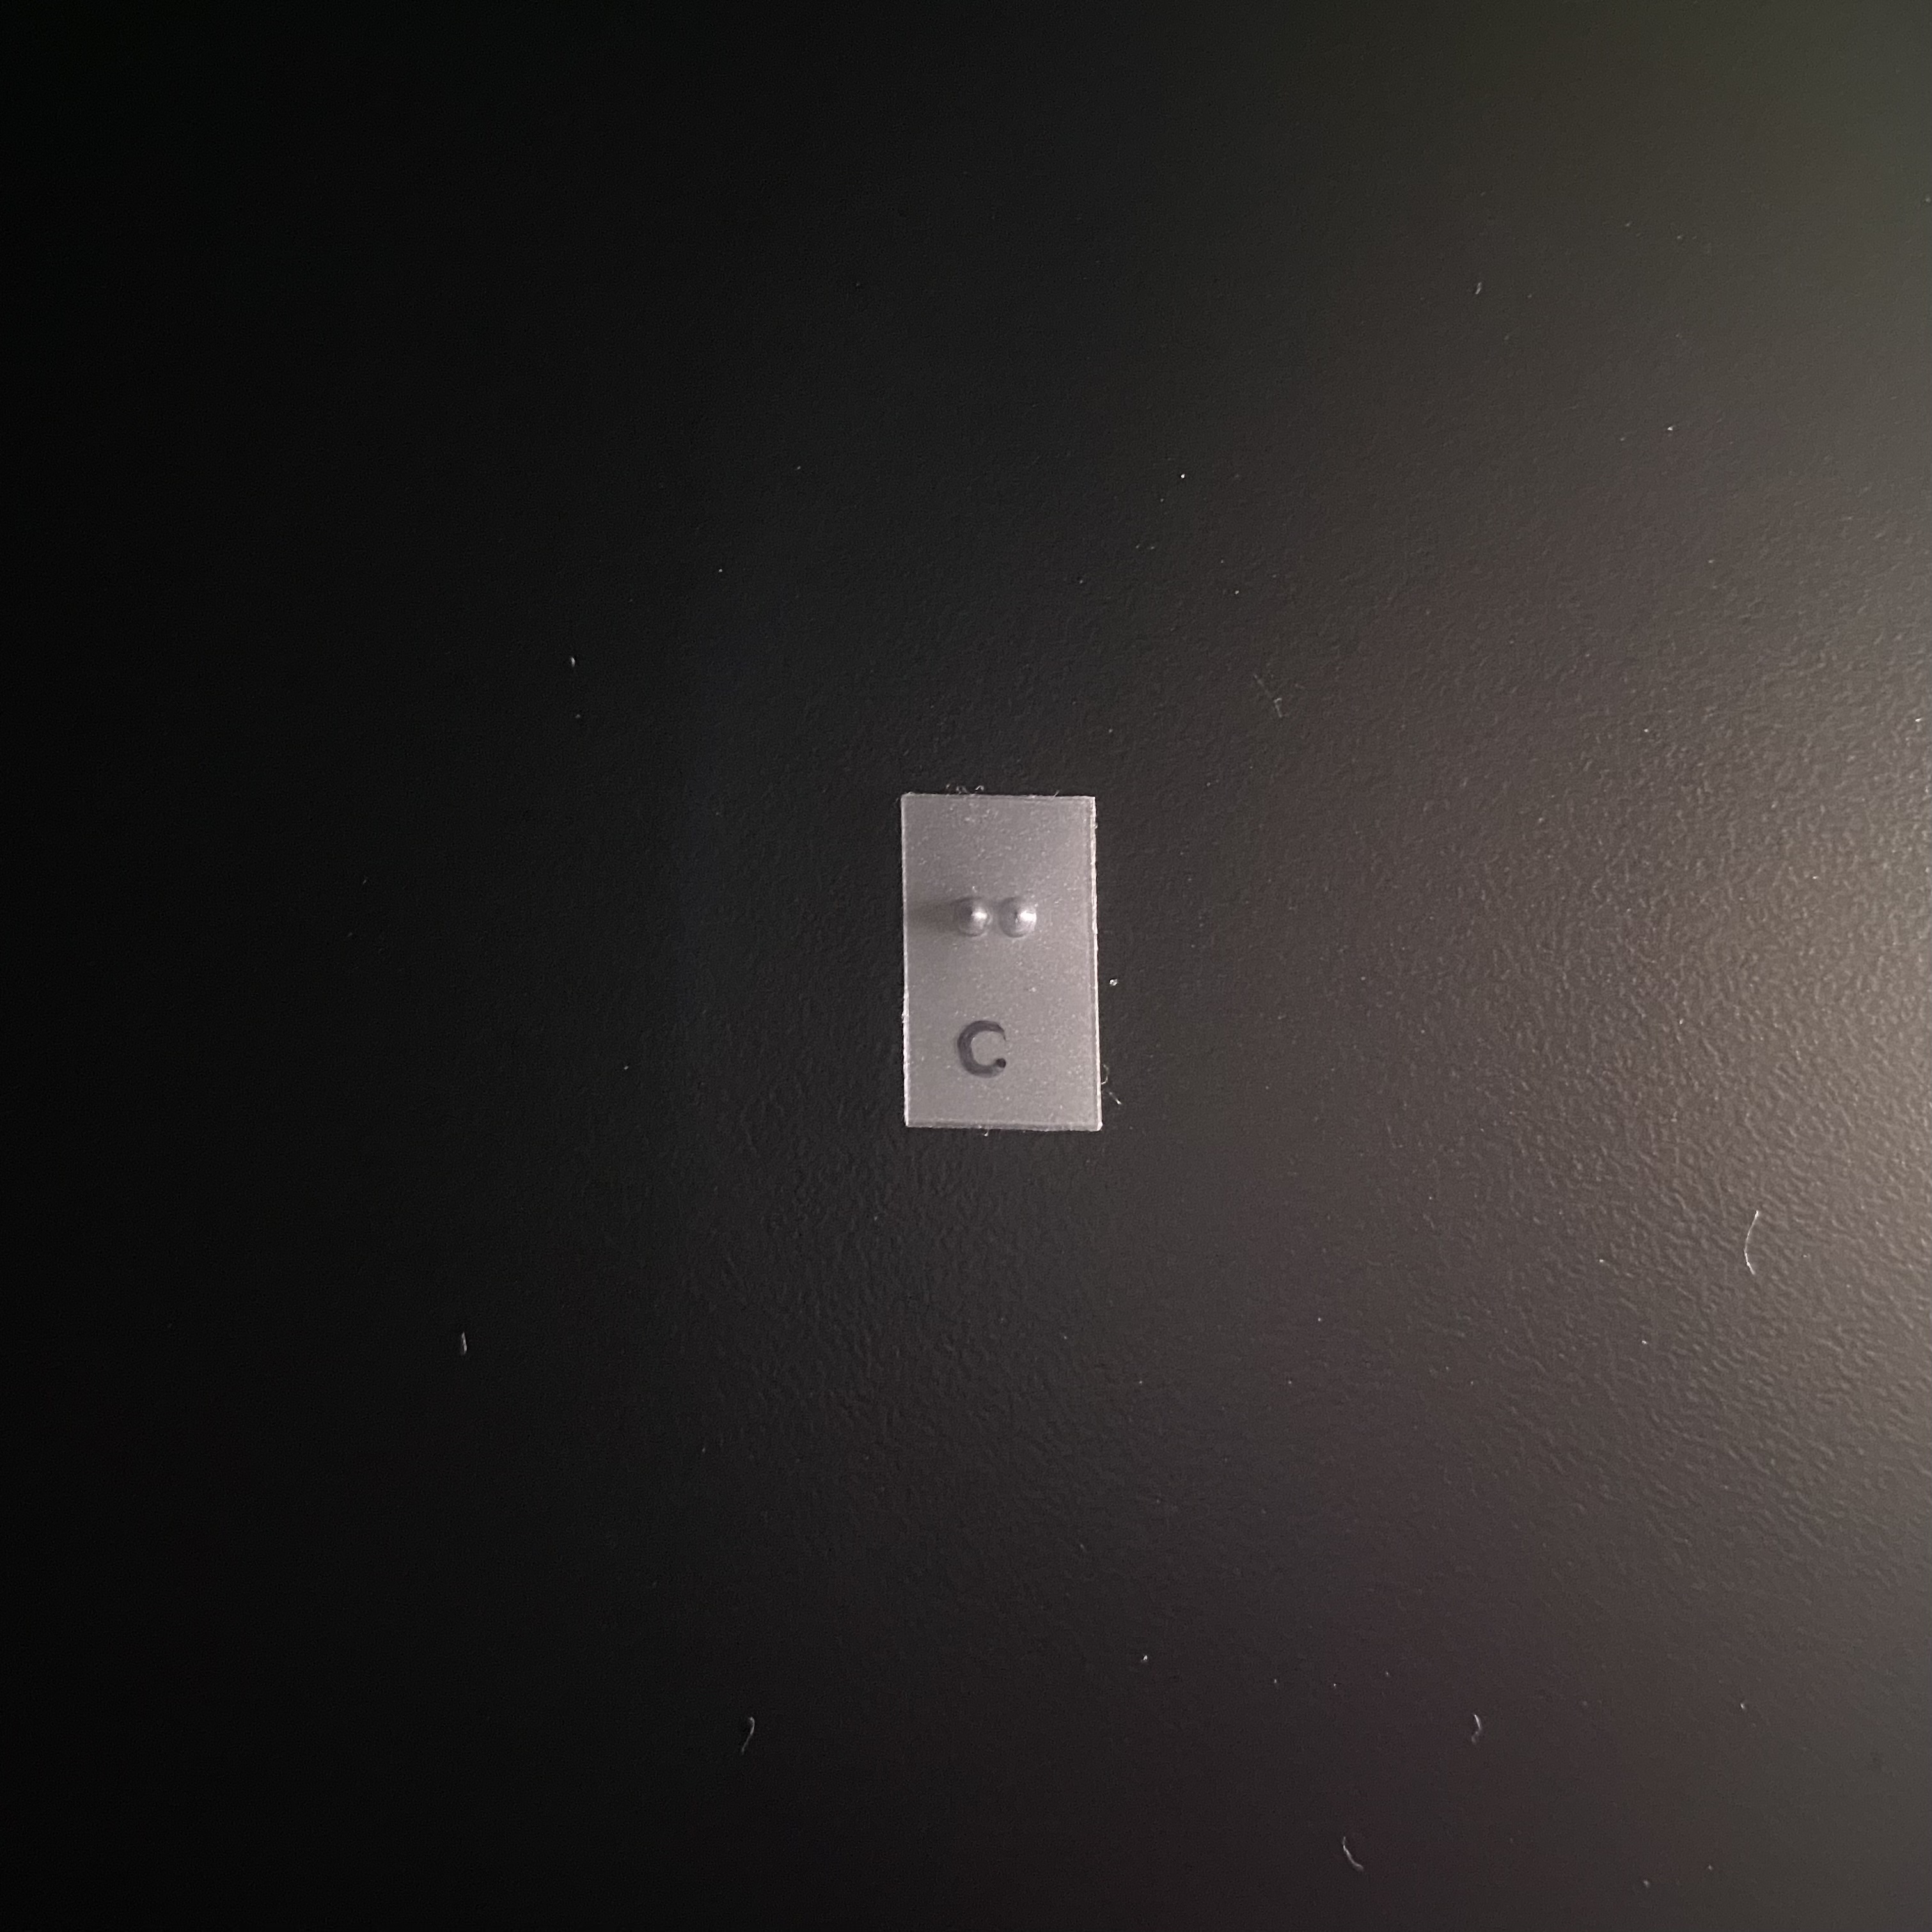c: (948, 879, 1049, 1071)
